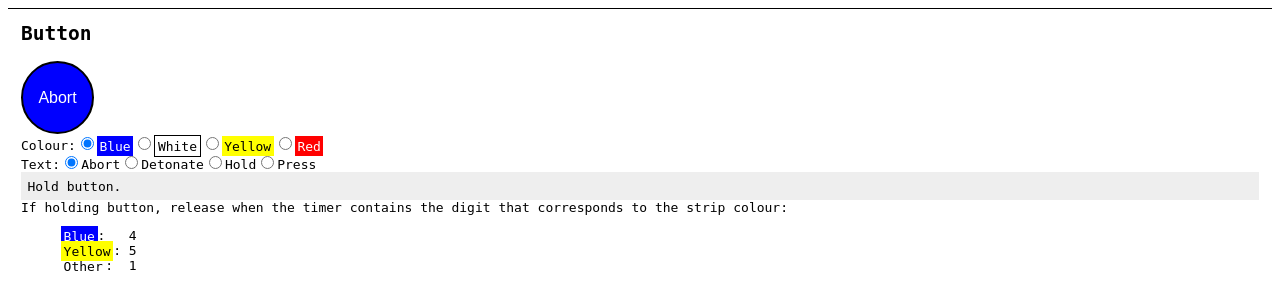
it: ButtonModule › changes button text when selecting different text
The image size is (1280, 303).
Click the radio button labelled "Detonate": [132, 163] box [125,156,138,169]
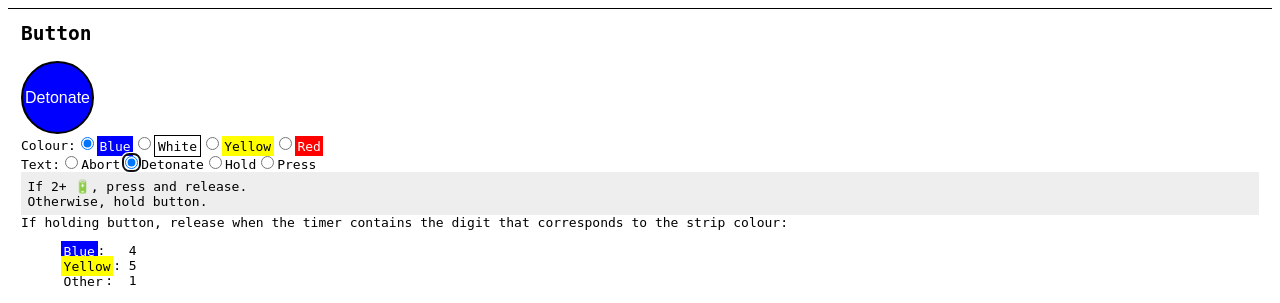
expect the element with class "bigButton" reads "Detonate": met, box [25,89,90,106]
